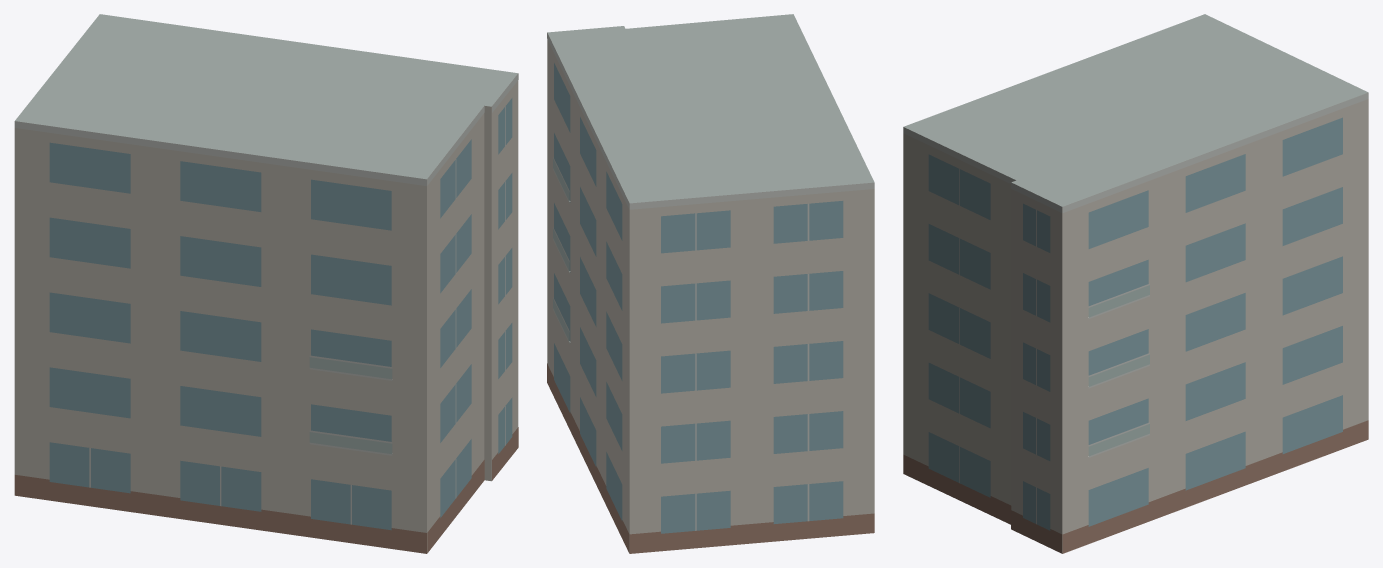
Rendered from survey-upis-32604581.glb.
3 renders of one model, left to right at view 1: azimuth 30°, elevation 25°; view 2: azimuth 150°, elevation 25°; view 3: azimuth 270°, elevation 25°, orthographic. The views are drawn at different scales.
Visible parts, largest first — view 1: survey-upis-32604581.tmp; view 2: survey-upis-32604581.tmp; view 3: survey-upis-32604581.tmp.
Boxes of the visible parts, <box> form: survey-upis-32604581.tmp: <box>14,14,518,553</box>; survey-upis-32604581.tmp: <box>547,14,874,553</box>; survey-upis-32604581.tmp: <box>903,14,1368,553</box>.
Bounding box in the file's own units: 15.87 × 13.3 × 16.18.
